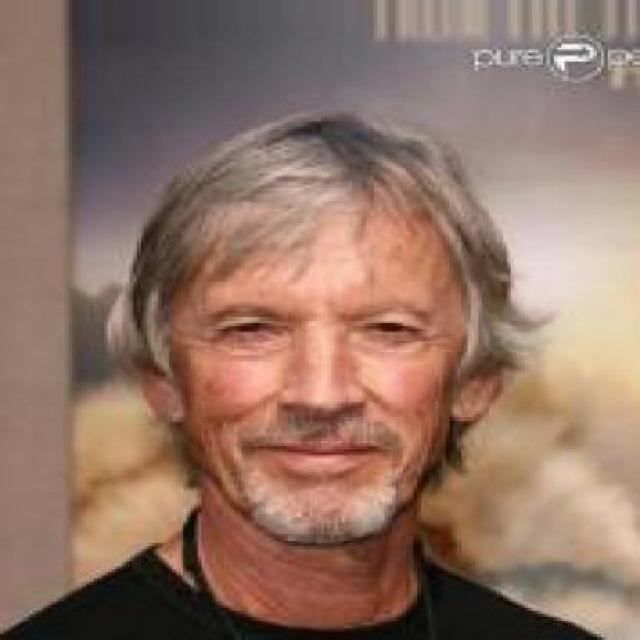closed-mouth: (246, 438, 391, 478)
